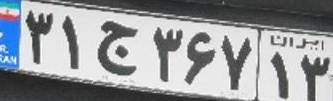character: (91, 14, 142, 79), (147, 18, 184, 85), (183, 25, 217, 91), (219, 30, 253, 95), (22, 6, 55, 69), (265, 47, 300, 101), (57, 10, 85, 72), (297, 52, 332, 101)
